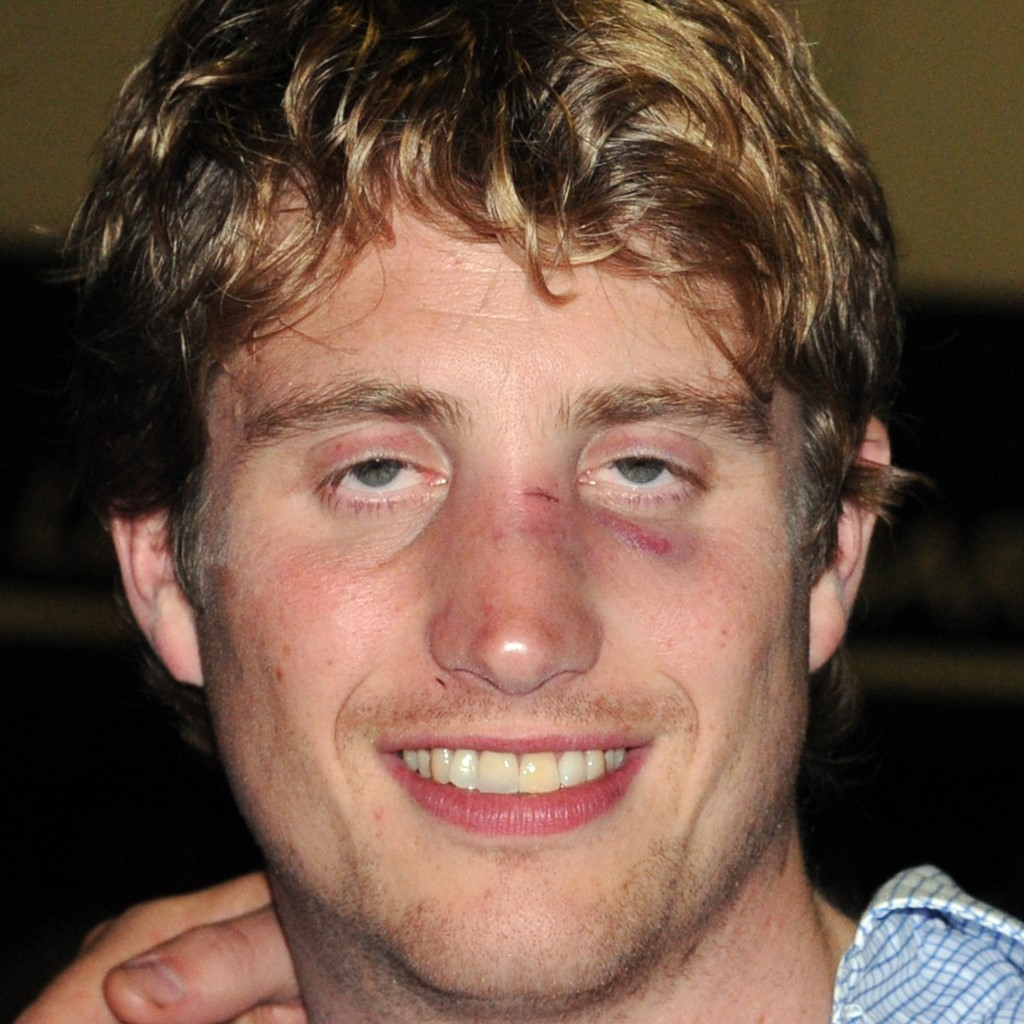sin_mascara: (149, 139, 828, 998)
